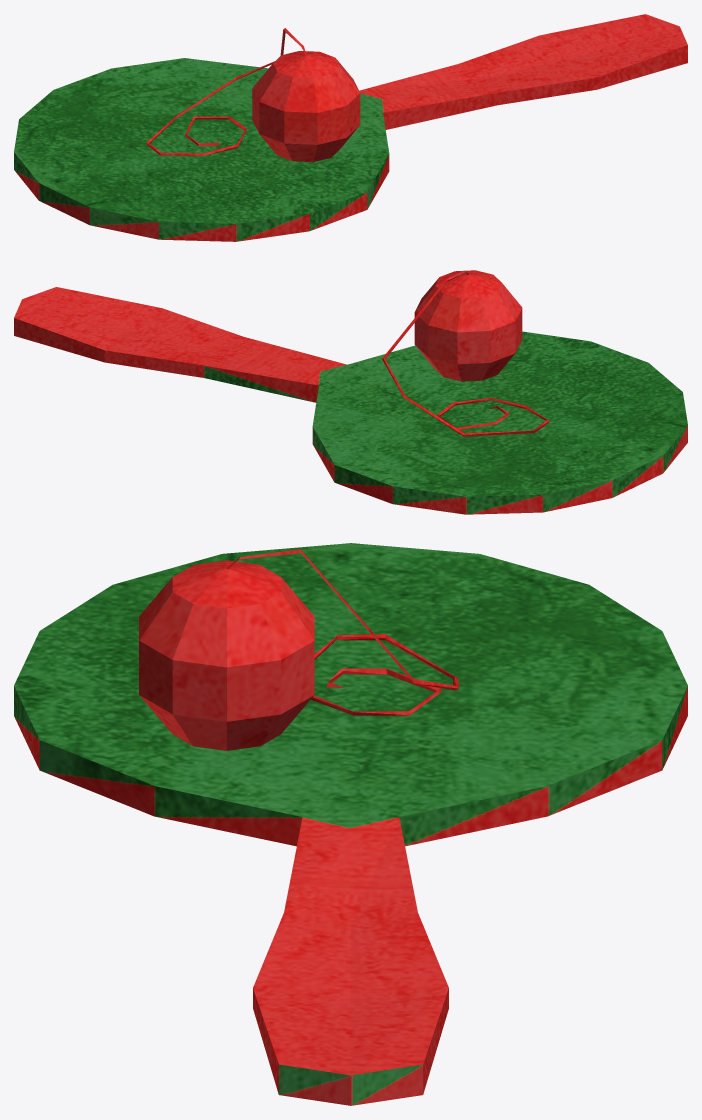
File: Pingpong.fbx
3 renders of one model, top to bottom at view 1: azimuth 30°, elevation 25°; view 2: azimuth 150°, elevation 25°; view 3: azimuth 270°, elevation 25°, orthographic. The views are drawn at different scales.
Visible parts, largest first — view 1: Pingpong_1; view 2: Pingpong_1; view 3: Pingpong_1.
Part boxes in pixels (<box>): Pingpong_1: <box>14,14,687,241</box>; Pingpong_1: <box>14,270,687,514</box>; Pingpong_1: <box>14,543,687,1105</box>.
Size of the model in its own units: 187 by 38.33 by 100.
